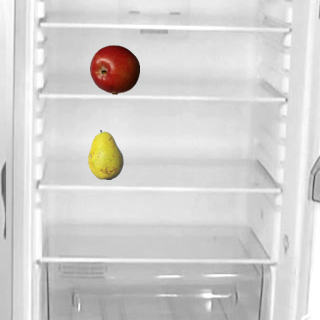Apple Braeburn: (89, 44, 139, 94)
Pear Monster: (80, 129, 130, 179)
